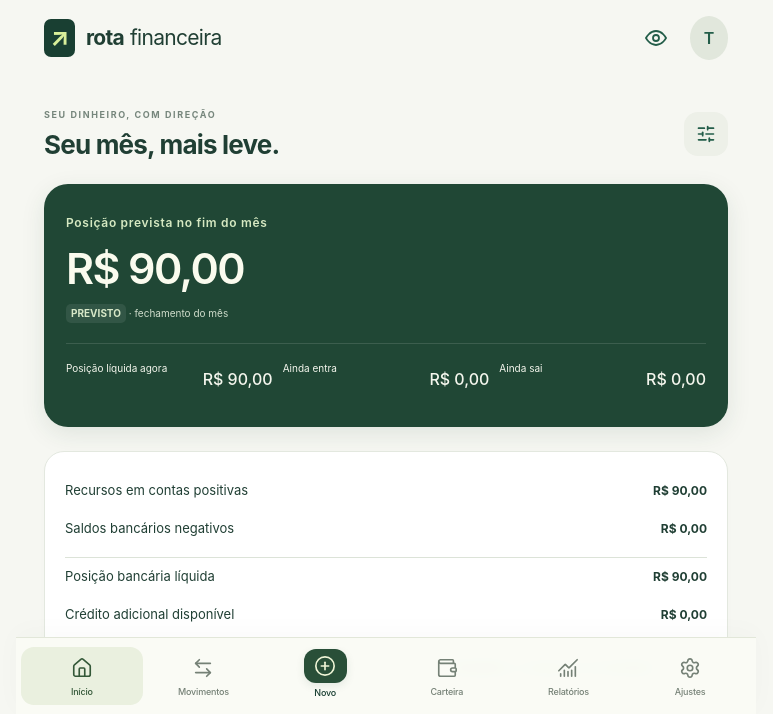
Test: experiência: relatórios, extrato e atualização › busca compacta filtra o extrato e mantém filtros durante atualização
Expected: the text "Posição líquida agora" is shown, [66,362,167,374]
Click the button "Movimentos": (204, 676) [143,646,264,705]
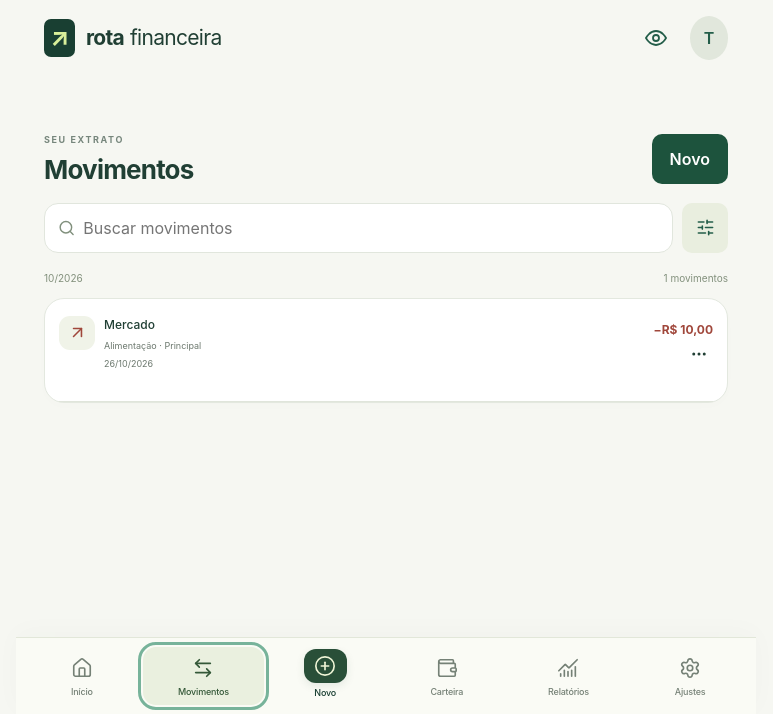
Now the heading labelled "mês" is gone
In the search field: (371, 228) [83,204,659,252], type "Mercado"
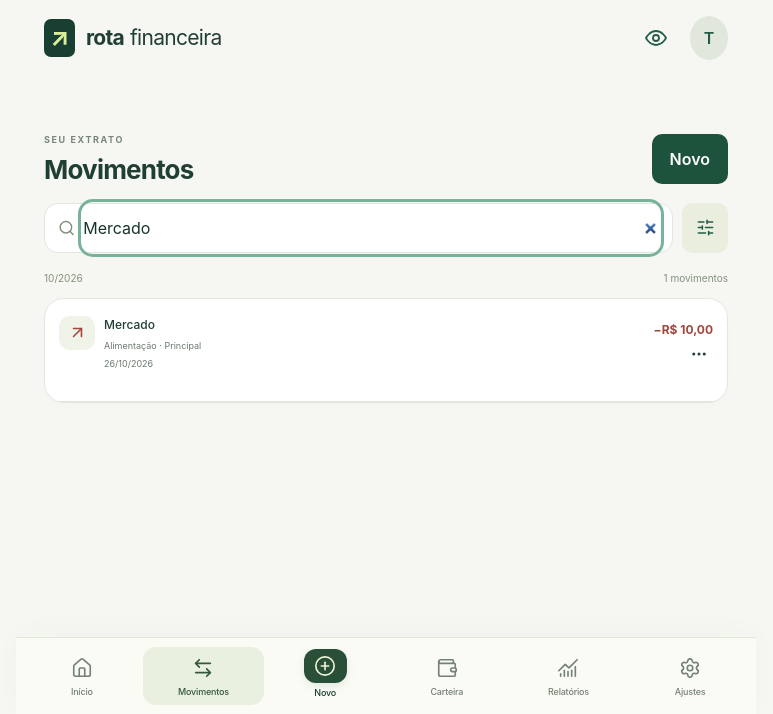
Now the number of elements with class "movement" is 1, box [59,299,713,402]
Click the button named "Filtros": (705, 228) [682,203,728,253]
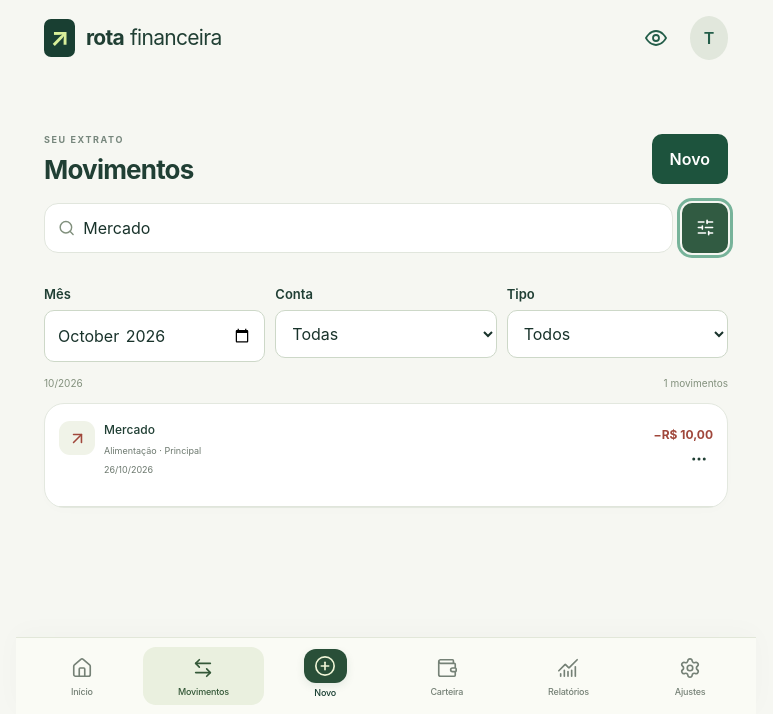
Now the field labelled "Mês" is shown, box [44,310,265,362]
Replace the text in the search field with "inexistente": (371, 228) [83,204,659,252]
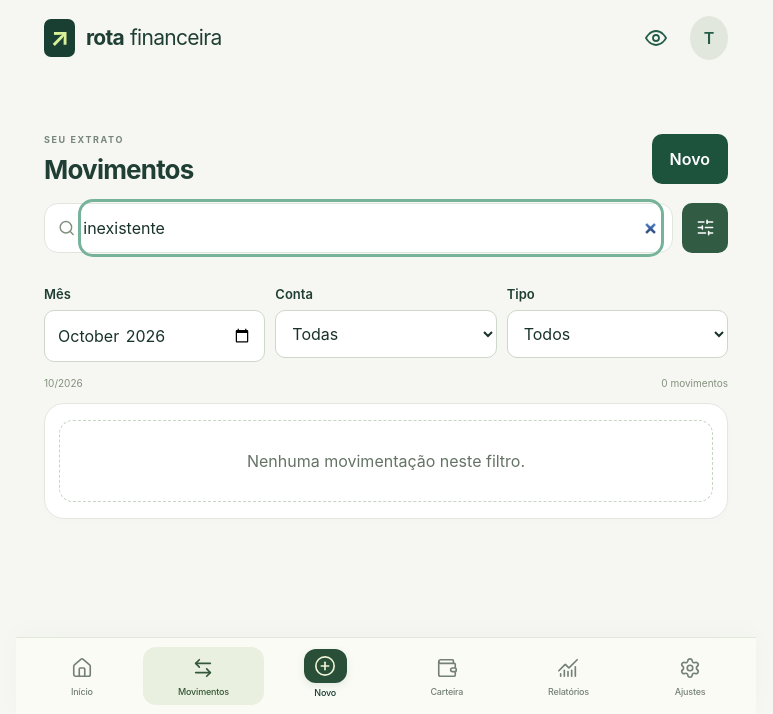
Now no elements with class "movement" are shown
